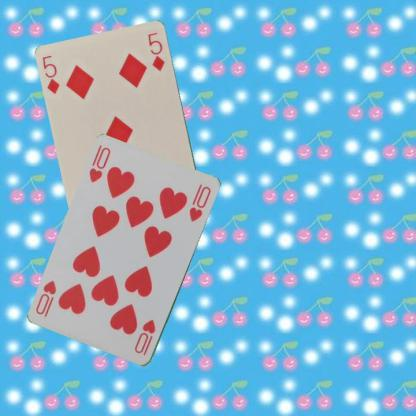10h: (86, 145, 112, 184), (132, 317, 157, 357)
5d: (40, 53, 61, 96)
